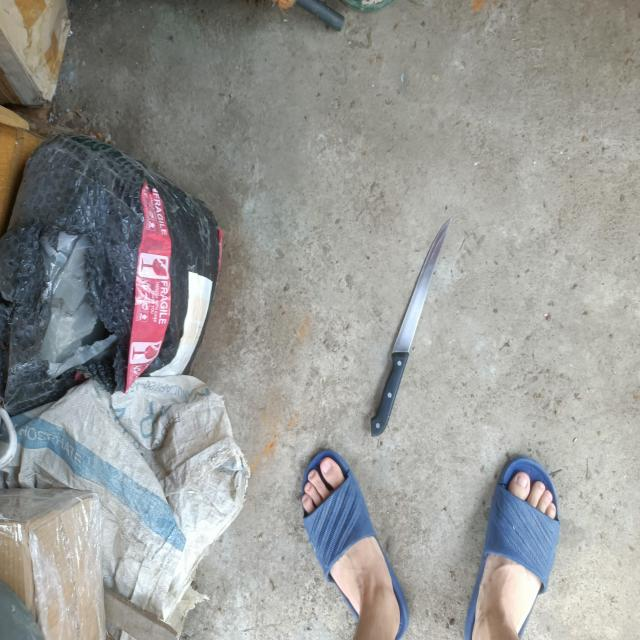knife: (370, 218, 450, 437)
